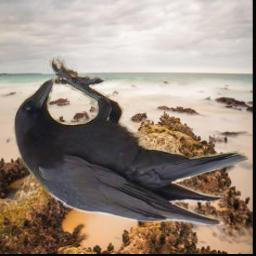Crow: (12, 57, 248, 226)
